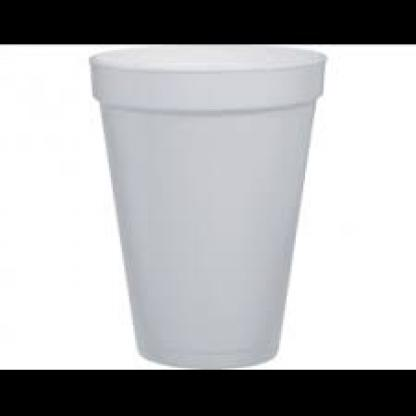paper: (87, 41, 323, 368)
